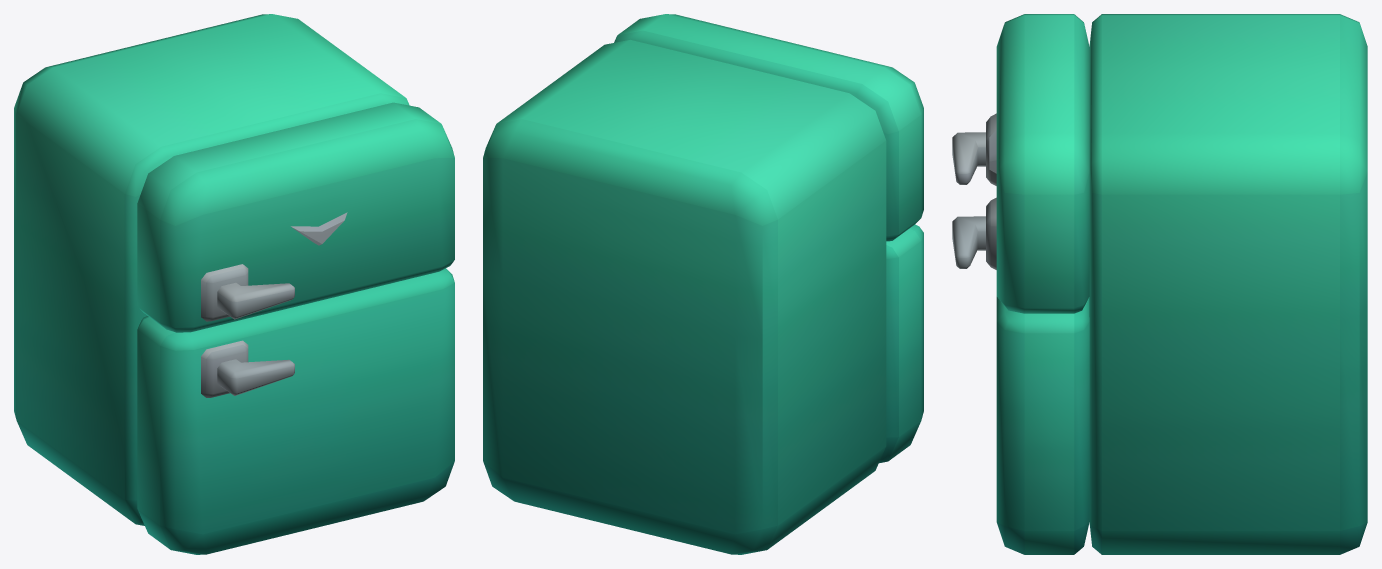
File: kkr.fridge_a.glb
The picture shows the model from 3 angles, left to right: view 1: azimuth 30°, elevation 25°; view 2: azimuth 150°, elevation 25°; view 3: azimuth 270°, elevation 25°; orthographic projection. The views are drawn at different scales.
Parts seen in each view (by area): view 1: Cube.616, fridge_A_door_bottom, fridge_A_door_top; view 2: Cube.616, fridge_A_door_top, fridge_A_door_bottom; view 3: Cube.616, fridge_A_door_top, fridge_A_door_bottom.
Boxes of the visible parts, box(x1,y1,x2,y2) form: Cube.616: box(14, 14, 409, 525); fridge_A_door_bottom: box(137, 268, 454, 554); fridge_A_door_top: box(137, 102, 454, 332); Cube.616: box(483, 39, 886, 554); fridge_A_door_top: box(614, 14, 923, 241); fridge_A_door_bottom: box(879, 224, 923, 463); Cube.616: box(1089, 14, 1367, 554); fridge_A_door_top: box(952, 14, 1089, 313); fridge_A_door_bottom: box(952, 197, 1089, 554).
Bounding box in the file's own units: 1.49 × 1.86 × 1.67.
Materials: 1 (1 with a texture image).
